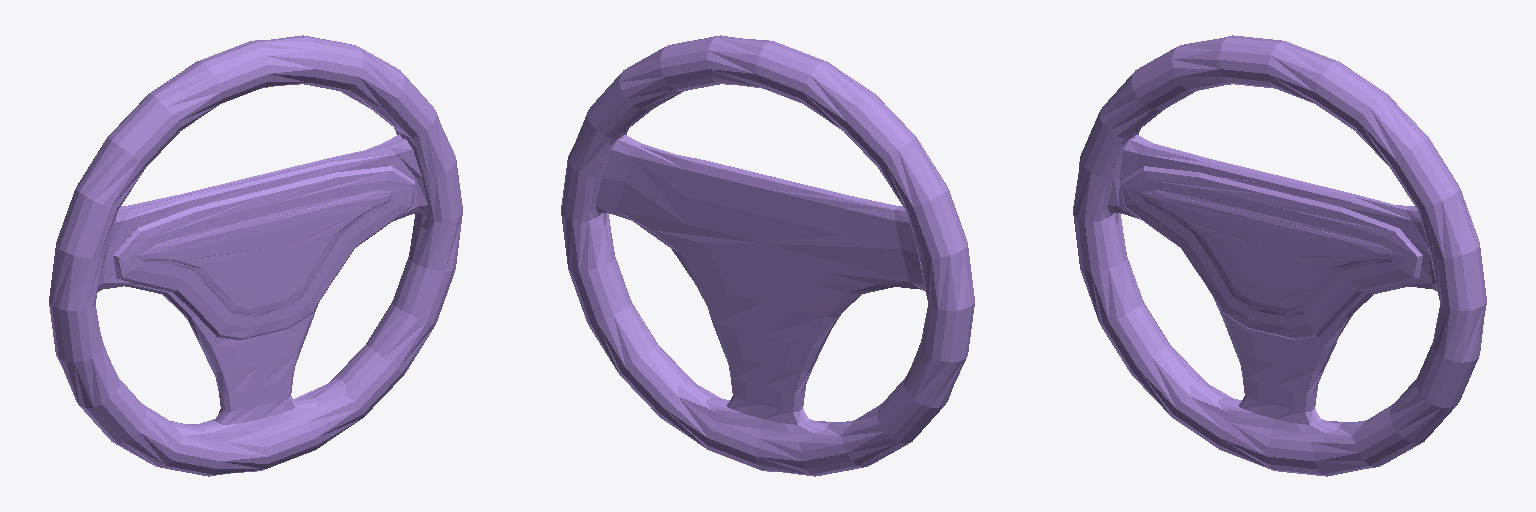
Rendered from steering_001.obj.
3 views of the same model, side by side, from view 1: azimuth 30°, elevation 25°; view 2: azimuth 150°, elevation 25°; view 3: azimuth 330°, elevation 25° (orthographic).
Parts seen in each view (by area): view 1: Torus002; view 2: Torus002; view 3: Torus002.
Part boxes in pixels (bbox=[...]): Torus002: bbox=[49, 35, 462, 476]; Torus002: bbox=[561, 35, 974, 476]; Torus002: bbox=[1073, 35, 1486, 476].
Bounding box in the file's own units: 43.14 × 43.14 × 4.63.